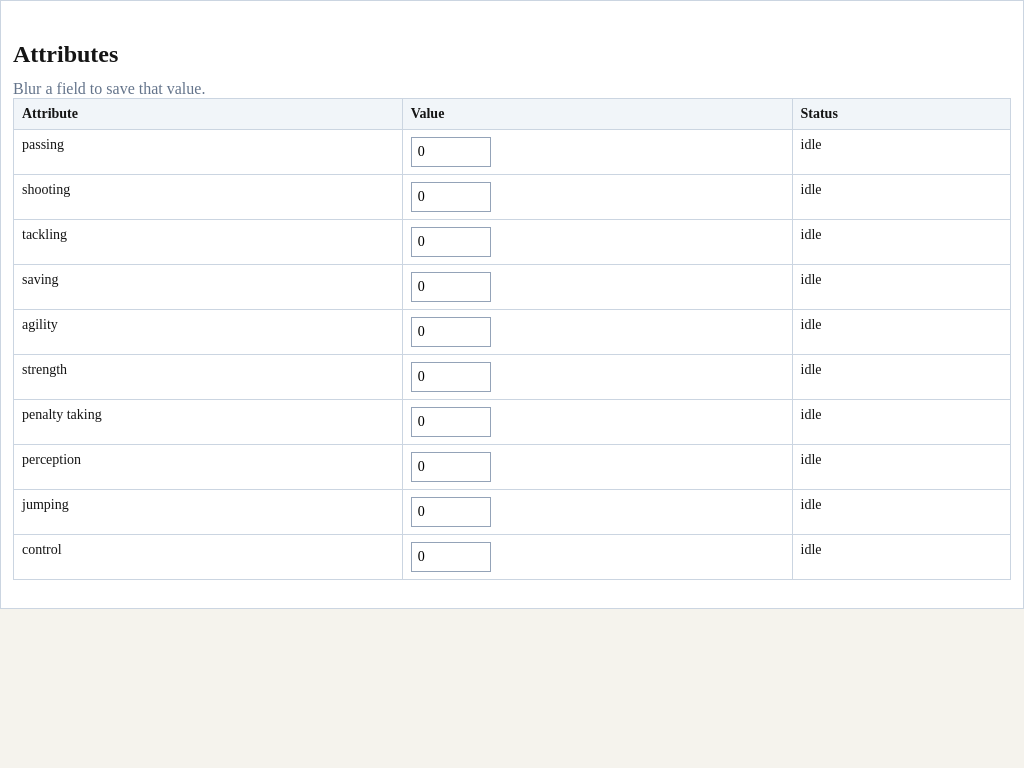
it: AttributeEditor › saves a changed value and shows saving then saved states
Replace the text in the number field named "tackling" with "86" at (451, 242), box [411,227,491,257]
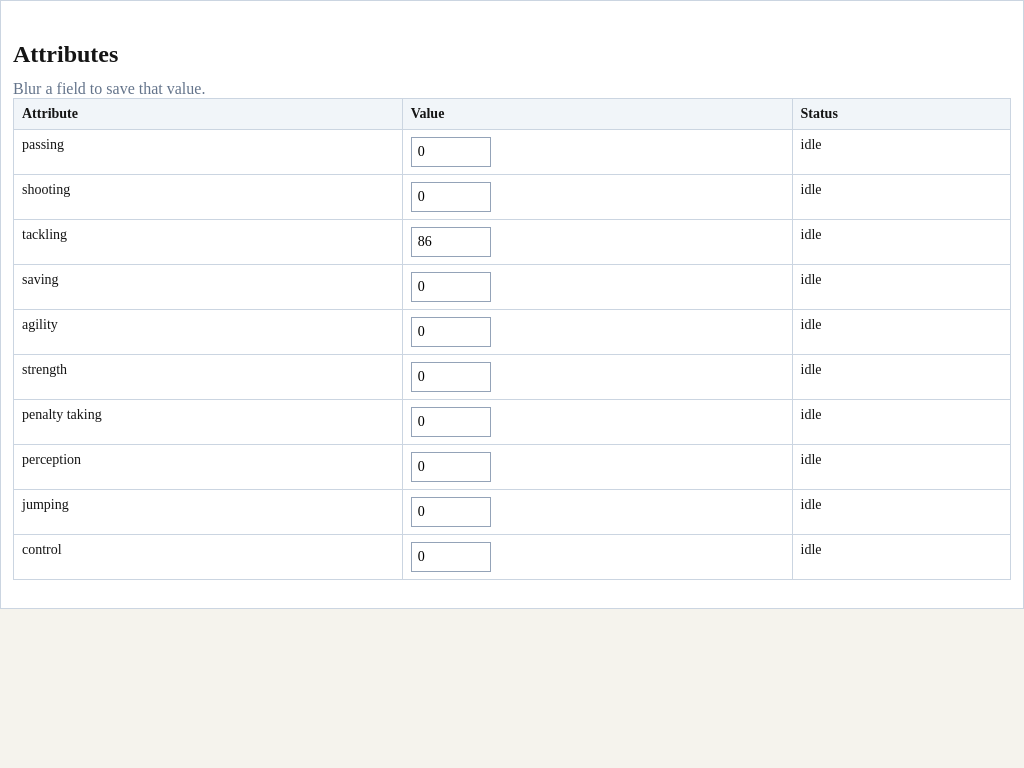
Leave the number field named "tackling", box [411,227,491,257]
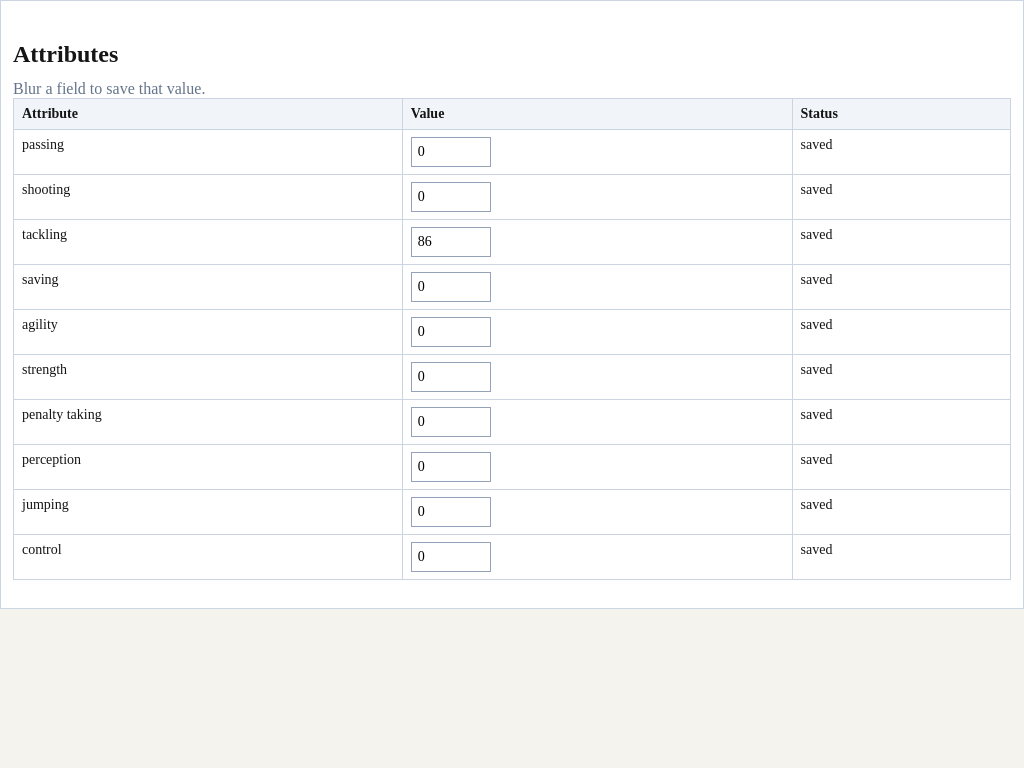
expect the text "saving" is shown: met, box [14,264,402,310]
expect the text "saved" in the row of "passing" is shown: met, box [800,137,832,152]
